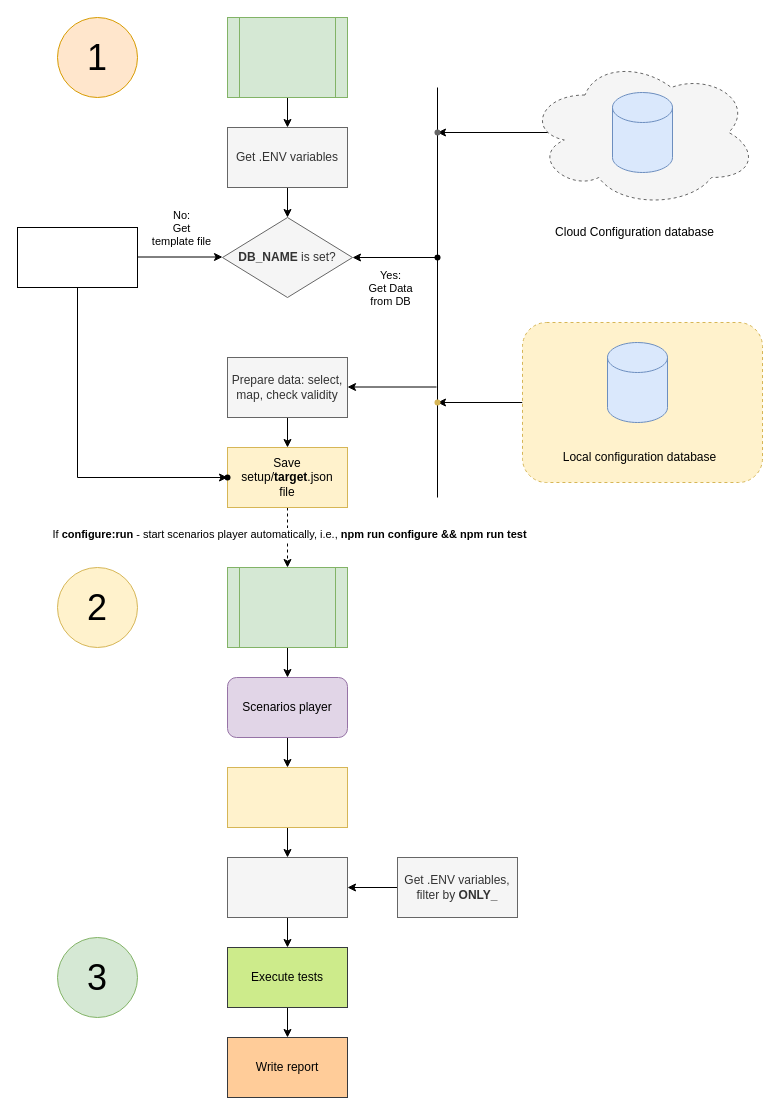
The diagram is 780 pixels wide and 1115 high, and some of its shapes have lost their labels. Each missing label, with the centre of its shape:
"Load setup/ target .json file" goes at (287,797).
"npm run configure" goes at (287,57).
"npm run test" goes at (287,607).
"Prepare run configuration" goes at (287,887).
"Template static file static-default-config/ targets .json" goes at (77,257).
